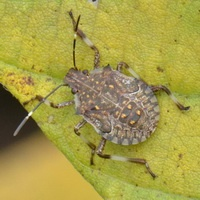insect: (13, 11, 189, 178), (74, 35, 95, 74)
